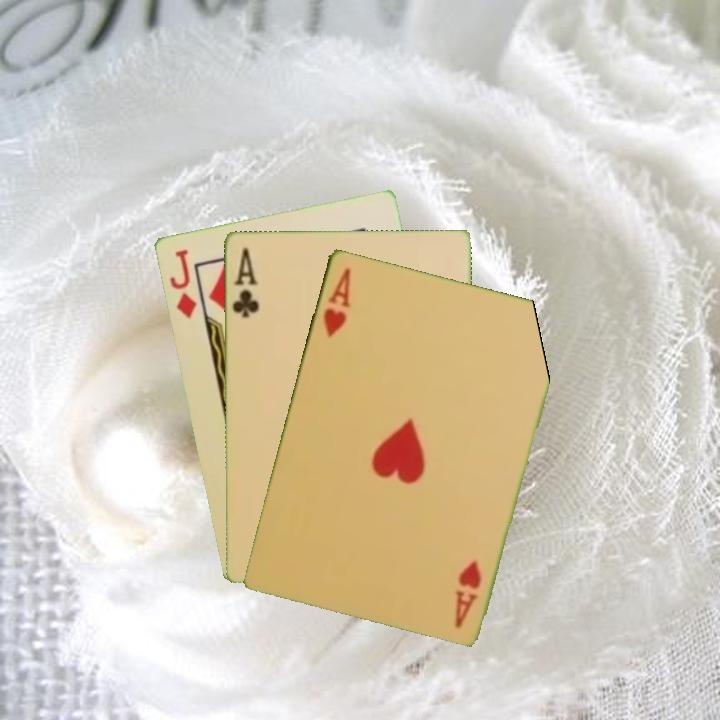Ac: (228, 244, 262, 320)
Ah: (319, 263, 353, 340), (451, 556, 484, 631)
Jd: (165, 245, 200, 322)
